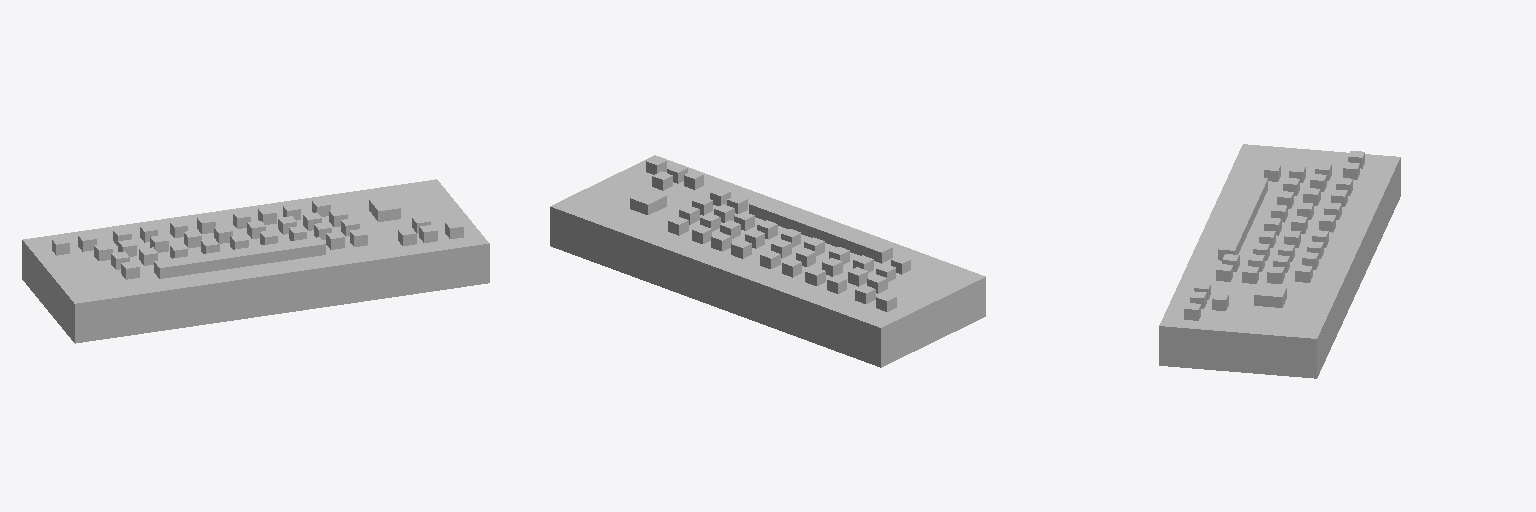
Rendered from Keyboard-Merged.obj.
3 renders of one model, left to right at view 1: azimuth 30°, elevation 25°; view 2: azimuth 150°, elevation 25°; view 3: azimuth 270°, elevation 25°, orthographic.
Visible parts, largest first — view 1: Keyboard-Merged; view 2: Keyboard-Merged; view 3: Keyboard-Merged.
Boxes of the visible parts, x1,y1,x2,y2 form: Keyboard-Merged: [22, 179, 489, 343]; Keyboard-Merged: [550, 155, 985, 367]; Keyboard-Merged: [1159, 144, 1400, 378].
Size of the model in its own units: 1.58 by 0.191 by 0.8261.